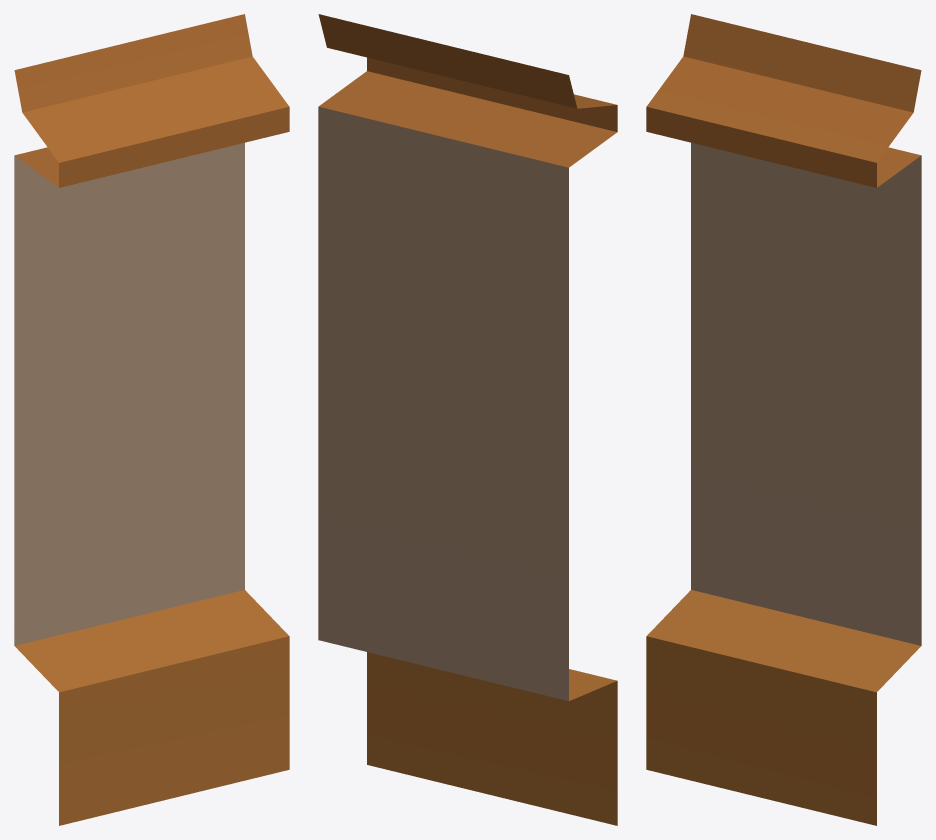
Rendered from Wall_plain_half_B.fbx.
The picture shows the model from 3 angles, left to right: view 1: azimuth 30°, elevation 25°; view 2: azimuth 150°, elevation 25°; view 3: azimuth 330°, elevation 25°; orthographic projection. The views are drawn at different scales.
Visible parts, largest first — view 1: Wall_plain_half_B; view 2: Wall_plain_half_B; view 3: Wall_plain_half_B.
Boxes of the visible parts, bbox=[...] form: Wall_plain_half_B: bbox=[14, 14, 289, 825]; Wall_plain_half_B: bbox=[318, 14, 617, 825]; Wall_plain_half_B: bbox=[646, 14, 921, 825].
Bounding box in the file's own units: 100 × 300 × 33.54.
